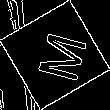M_W: (25, 26, 85, 84)
